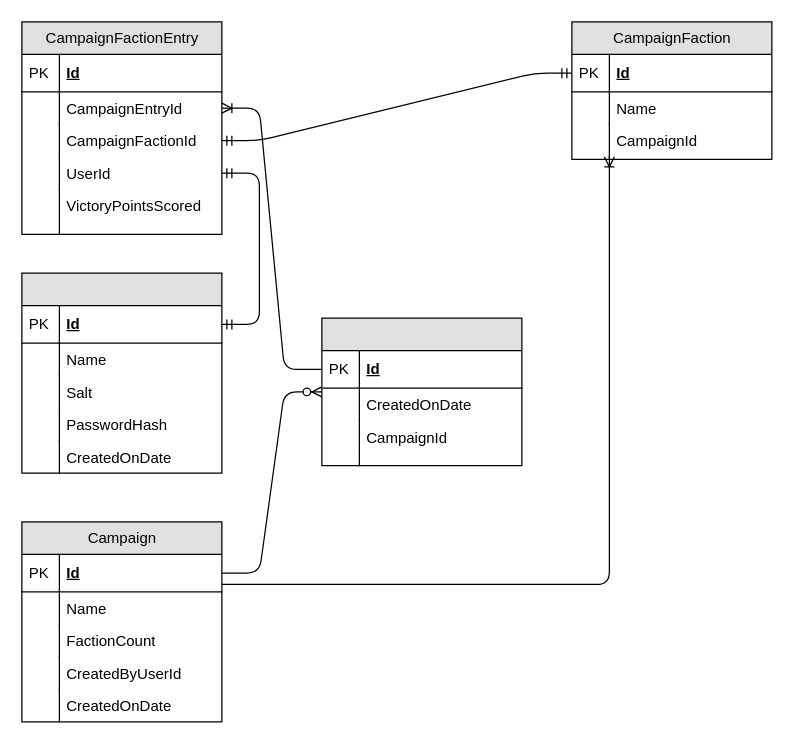
The diagram is 794 pixels wide and 748 high, and some of its shapes have lost their labels. The shapes that lost their labels are listed below. From the top down, each one's box as (x1, y1, x2, y2) in pixels, then its label:
(21, 272, 222, 473): User
(321, 317, 522, 466): CampaignEntry
